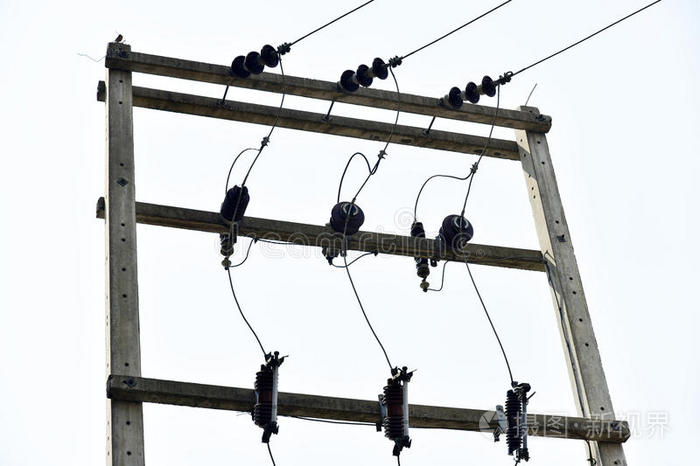insulator: (229, 45, 278, 80), (340, 58, 388, 91), (447, 75, 495, 107)
